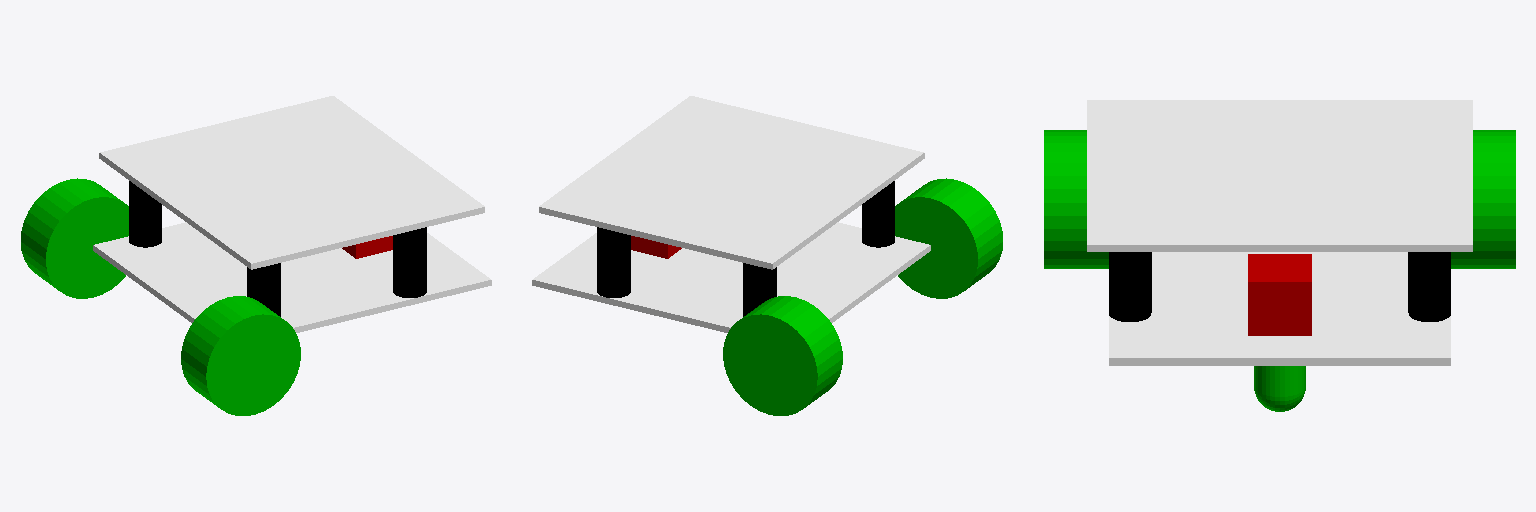
URDF robot description (r2d2):
<?xml version="1.0" ?>

<robot name="r2d2" xmlns:xacro="http://www.ros.org/wiki/xacro">
  <!-- Wheels -->
  <!-- in kg-->
  <!-- Defining the colors used in this robot -->
  
  <material name="Black">
    <color rgba="0.0 0.0 0.0 1.0"/>
  </material>
  <material name="Red">
    <color rgba="0.8 0.0 0.0 1.0"/>
  </material>
  <material name="Green">
    <color rgba="0.0 0.8 0.0 1.0"/>
  </material>
  <material name="White">
    <color rgba="1.0 1.0 1.0 1.0"/>
  </material>
  <material name="Blue">
    <color rgba="0.0 0.0 0.8 1.0"/>
  </material>
   --&gt; 

  <!-- BASE-LINK -->
  <!--Actual body/chassis of the robot-->

  <link name="base_link">
    <inertial>
      <mass value="0.1"/>
      <origin xyz="0 0 0.05"/>
      <!--The 3x3 rotational inertia matrix. -->
       <inertia ixx="0.0282916666667" ixy="0" ixz="0" iyy="0.0282916666667" iyz="0" izz="0.05625"/>
    </inertial>
    <visual>
      <origin rpy="0 0 0" xyz="0 0 0"/>
      <geometry>
        <box size="0.18 0.16 0.004"/>
      </geometry>
      <material name="White"/>
    </visual>
    <collision>
      <origin rpy="0 0 0 " xyz="0 0 0"/>
      <geometry>
        <cylinder length="0.005" radius="0.08"/>
      </geometry>
    </collision>
  </link>
  <gazebo reference="base_link">
    <material>Gazebo/White</material>
    <turnGravityOff>false</turnGravityOff>
  </gazebo>

  <!-- BASE-upperlink -->

<link name="base_upperlink">
    <inertial>
      <mass value="0.01"/>
      <origin xyz="0 0 0"/>
      <inertia ixx="0.001" ixy="0" ixz="0" iyy="0.001" iyz="0" izz="0.001"/>
    </inertial>
    <visual>
      <origin rpy="0 0 0" xyz="0 0 0"/>
      <geometry>
        <box size="0.16 0.18 0.004"/>
      </geometry>
  <material name="White"/>  
  </visual>
    <collision>
      <origin rpy="0 0 0 " xyz="0 0 0"/>
      <geometry>
        <cylinder length="0.005" radius="0.08"/>
      </geometry>
   <material name="White"/>
    </collision>
  </link>
  <gazebo reference="base_upperlink">
  
    <turnGravityOff>false</turnGravityOff>
  </gazebo>
  <joint name="base_upperlink_joint" type="fixed">
    <origin rpy="0 0 0" xyz="0 0 0.054"/>
    <parent link="base_link"/>
    <child link="base_upperlink"/>
  </joint>




  <!--fb : front, back ; lr: left, right -->
  <link name="right_wheel">
    <visual>
      <origin rpy="1.57079632679 0  0 " xyz="0 0 0"/>
      <geometry>
        <cylinder length="0.03" radius="0.0325"/>
      </geometry>
      <material name="Green"/>
    </visual>
    <collision>
      <origin rpy="1.57079632679 0 0 " xyz="0 0 0"/>
      <geometry>
        <cylinder length="0.005" radius="0.025"/>
      </geometry>
    </collision>
    <inertial>
      <mass value="0.05"/>
      <origin xyz="0 0 0"/>
      <inertia ixx="0.001" ixy="0" ixz="0" iyy="0.001" iyz="0" izz="0.001"/>
    </inertial>
  </link>
  <gazebo reference="right_wheel">
    <mu1 value="1.0"/>
    <mu2 value="1.0"/>
    <kp value="100000.0"/>
    <kd value="1.0"/>
    <fdir1 value="1 0 0"/>
    <material>Gazebo/Green</material>
    <turnGravityOff>false</turnGravityOff>
  </gazebo>
  <joint name="right_wheel_joint" type="continuous">
    <parent link="base_link"/>
    <child link="right_wheel"/>
      <origin rpy="0 0 0" xyz="-0.09 0.095 0"/>
    <axis rpy="0 0 0" xyz="0 1 0"/>
    <limit effort="100" velocity="100"/>
    <joint_properties damping="0.0" friction="0.0"/>
  </joint>
  <!-- Transmission is important to link the joints and the controller -->


  <transmission name="right_wheel_joint_trans">
    <type>transmission_interface/SimpleTransmission</type>
    <joint name="right_wheel_joint"/>
    <actuator name="right_wheel_joint_motor">
      <hardwareInterface>EffortJointInterface</hardwareInterface>
      <mechanicalReduction>1</mechanicalReduction>
    </actuator>
  </transmission>
  
  <!--left motor -->
  <link name="left_wheel">
    <visual>
      <origin rpy="1.57079632679 0  0 " xyz="0 0 0"/>
      <geometry>
        <cylinder length="0.03" radius="0.0325"/>
      </geometry>
      <material name="Green"/>
    </visual>
    <collision>
      <origin rpy="1.57079632679 0 0 " xyz="0 0 0"/>
      <geometry>
        <cylinder length="0.005" radius="0.025"/>
      </geometry>
    </collision>
    <inertial>
      <mass value="0.05"/>
      <origin xyz="0 0 0"/>
      <inertia ixx="0.001" ixy="0" ixz="0" iyy="0.001" iyz="0" izz="0.001"/>
    </inertial>
  </link>
  <gazebo reference="left_wheel">
    <mu1 value="1.0"/>
    <mu2 value="1.0"/>
    <kp value="100000.0"/>
    <kd value="1.0"/>
    <fdir1 value="1 0 0"/>
    <material>Gazebo/Green</material>
    <turnGravityOff>false</turnGravityOff>
  </gazebo>
  <joint name="left_wheel_joint" type="continuous">
    <parent link="base_link"/>
    <child link="left_wheel"/>
    <origin rpy="0 0 0" xyz="-0.09 -0.095 0"/>
    <axis rpy="0  0" xyz="0 1 0"/>
    <limit effort="100" velocity="100"/>
    <joint_properties damping="0.0" friction="0.0"/>
  </joint>

  <!-- Transmission is important to link the joints and the controller -->
  <transmission name="left_wheel_joint_trans">
    <type>transmission_interface/SimpleTransmission</type>
    <joint name="left_wheel_joint"/>
    <actuator name="left_wheel_joint_motor">
      <hardwareInterface>EffortJointInterface</hardwareInterface>
      <mechanicalReduction>1</mechanicalReduction>
    </actuator>
  </transmission>

  <!--Caster front  -->

  <link name="caster_front_link">
    <visual>
      <origin rpy="1.57079632679 0 0" xyz="0 0 0"/>
      <geometry>
        <sphere radius="0.01214"/>
      </geometry>
      <material name="Green"/>
    </visual>
    <collision>
      <geometry>
        <sphere radius="0.007"/>
      </geometry>
      <origin rpy="1.57079632679 0 0" xyz="0 0 0"/>
    </collision>
    <inertial>
      <mass value="0.05"/>
      <origin xyz="0 0 0"/>
      <inertia ixx="0.001" ixy="0.0" ixz="0.0" iyy="0.001" iyz="0.0" izz="0.001"/>
    </inertial>
  </link>
  <joint name="caster_front_joint" type="continuous">
    <parent link="caster_link"/>
    <child link="caster_front_link"/>
    <origin rpy="0 0 0" xyz="0.05 0 -0.01545"/>
    <axis rpy="1 0 0" xyz="0 0 0"/>
  </joint>
  <gazebo reference="caster_front_link">
    <turnGravityOff>false</turnGravityOff>
    <material>Gazebo/Green</material>
  </gazebo>
  
<link name="caster_link">
    <visual>
      <origin rpy="0 0  0 " xyz="0.05 0 0"/>
      <geometry>
        <cylinder length="0.03086" radius="0.01214"/>
      </geometry>
      <material name="Green"/>
    </visual>
    <collision>
      <origin rpy="0 0 0 " xyz="0.05 0 0"/>
      <geometry>
        <cylinder length="0.035" radius="0.005"/>
      </geometry>
    </collision>
    <inertial>
      <mass value="0.05"/>
      <origin xyz="0.05 0 0"/>
      <inertia ixx="0.001" ixy="0" ixz="0" iyy="0.001" iyz="0" izz="0.001"/>
    </inertial>
  </link>
  
<joint name="caster_front_joint_base" type="fixed">
    <parent link="base_link"/>
    <child link="caster_link"/>
    <origin rpy="0 0 0" xyz="0 0.0 -0.01545"/>
  </joint>
  <gazebo reference="caster_link">
    <turnGravityOff>false</turnGravityOff>
    <material>Gazebo/Green</material>
  </gazebo>
  
  



  <!-- hokuyo -->
<joint name="laser_sensor" type="fixed">
    <axis xyz="1 0 0"/>      
    <origin rpy="0 0.05 0" xyz="0.05 0 0.015"/>
    <parent link="base_link"/>
    <child link="laser_link"/>
  </joint>

<link name="laser_link">
  <inertial>
    <mass value="0.001"/>
    <origin rpy="0 0 0" xyz="0.05 0 0"/>
    <inertia ixx="0.001" ixy="0" ixz="0" iyy="0.001" iyz="0" izz="0.001"/>
  </inertial>
  <visual>
    <origin rpy="0 -0.05 0" xyz="0 0 0"/>
    <geometry>
      <box size="0.03 0.03 0.03"/>
    </geometry>
    <material name="Red"/>  
  </visual>
  <collision>
    <origin rpy="0 0 0" xyz="0 0 0"/>
    <geometry>
      <box size=".03 .03 .03"/>
    </geometry>
  </collision>
</link>

  <gazebo reference="laser_link">
   <material>Gazebo/Red</material>
    <turnGravityOff>false</turnGravityOff>
   
 <sensor name="laser_sensor" type="ray">
   
   <pose>0 0 0 0 0 0 0</pose>
      <visualize>true</visualize>
      <update_rate>100</update_rate>
      <ray>
  
      <scan>
          <horizontal>
            <samples>700</samples>
            <resolution>1</resolution>
            <min_angle>-1.170796</min_angle>
            <max_angle>1.170796</max_angle>
          </horizontal>
        </scan>

        <range>
          <min>0.1</min>
          <max>30</max>
          <resolution>0.01</resolution>
        </range>

      </ray>

      <plugin filename="libgazebo_ros_laser.so" name="gazebo_ros_head_hokuyo_controller">
        <topicName>/scan1</topicName>
        <frameName>laser_sensor</frameName>
      </plugin>
   </sensor>
  </gazebo>


  <link name="support_1">
    <visual>
      <origin rpy="0 0 0" xyz="0 0 0"/>
      <geometry>
       <cylinder length="0.05" radius="0.01"/>
      </geometry>
   <material name="Black"/>
    </visual>

  </link> 

  <joint name="support_joint1" type="fixed">
    <origin rpy="0 0 0" xyz="0.04 -0.07 0.027"/>
    <parent link="base_link"/>
    <child link="support_1"/>
  </joint>
  
  <gazebo reference="support_1">
    <turnGravityOff>false</turnGravityOff>
    <material>Gazebo/Black</material>
  </gazebo>

<link name="support_2">
    <visual>
      <origin rpy="0 0 0" xyz="0 0 0"/>
      <geometry>
       <cylinder length="0.05" radius="0.01"/>
      </geometry>
   <material name="Black"/>
    </visual>

  </link> 

  <joint name="support_joint2" type="fixed">
    <origin rpy="0 0 0" xyz="0.04 0.07 0.027"/>
    <parent link="base_link"/>
    <child link="support_2"/>
  </joint>
  <gazebo reference="support_2">
    <turnGravityOff>false</turnGravityOff>
    <material>Gazebo/Black</material>
  </gazebo>

<link name="support_3">
    <visual>
      <origin rpy="0 0 0" xyz="0 0 0"/>
      <geometry>
       <cylinder length="0.05" radius="0.01"/>
      </geometry>
   <material name="Black"/>
    </visual>

  </link> 

  <joint name="support_joint3" type="fixed">
    <origin rpy="0 0 0" xyz="-0.06 -0.07 0.027"/>
    <parent link="base_link"/>
    <child link="support_3"/>
  </joint>

  <gazebo reference="support_3">
    <turnGravityOff>false</turnGravityOff>
    <material>Gazebo/Black</material>
  </gazebo>

<link name="support_4">
    <visual>
      <origin rpy="0 0 0" xyz="0 0 0"/>
      <geometry>
       <cylinder length="0.05" radius="0.01"/>
      </geometry>
   <material name="Black"/>
    </visual>

  </link> 

  <joint name="support_joint4" type="fixed">
    <origin rpy="0 0 0" xyz="-0.06 0.07 0.027"/>
    <parent link="base_link"/>
    <child link="support_4"/>
  </joint>

  <gazebo reference="support_4">
    <turnGravityOff>false</turnGravityOff>
    <material>Gazebo/Black</material>
  </gazebo>

<gazebo>
    <plugin filename="libgazebo_ros_diff_drive.so" name="differential_drive_controller_front">
      <rosDebugLevel>Debug</rosDebugLevel>
      <publishWheelTF>True</publishWheelTF>
      <publishTf>1</publishTf>
      <publishWheelJointState>true</publishWheelJointState>
      <alwaysOn>true</alwaysOn>
      <updateRate>100.0</updateRate>
      <leftJoint>left_wheel_joint</leftJoint>
      <rightJoint>right_wheel_joint</rightJoint>
      <wheelSeparation>0.3</wheelSeparation>
      <wheelDiameter>0.065</wheelDiameter>
      <broadcastTF>1</broadcastTF>
      <wheelTorque>30</wheelTorque>
      <wheelAcceleration>1.8</wheelAcceleration>
      <commandTopic>cmd_vel</commandTopic>
      <odometryFrame>odom</odometryFrame>
      <odometryTopic>odom</odometryTopic>
      <robotBaseFrame>base_link</robotBaseFrame>
    </plugin>
  </gazebo>
 
</robot>

--- Facts derived from the render (not from the file) ---
Views: 3 orthographic renders of the robot side by side, from view 1: azimuth 30°, elevation 25°; view 2: azimuth 150°, elevation 25°; view 3: azimuth 270°, elevation 25°.
Model r2d2 with 11 links and 10 joints (3 continuous, 7 fixed), rooted at base_link, posed all joints at 0.
Visible links, largest first — view 1: base_upperlink, base_link, left_wheel, right_wheel, support_1, support_4, support_3, laser_link; view 2: base_upperlink, base_link, right_wheel, left_wheel, support_2, support_3, support_4, laser_link; view 3: base_upperlink, base_link, right_wheel, left_wheel, laser_link, support_1, support_2, caster_link, caster_front_link.
Boxes of the visible links, <box> form: base_upperlink: <box>99,96,484,269</box>; base_link: <box>93,222,491,332</box>; left_wheel: <box>181,296,300,415</box>; right_wheel: <box>21,178,128,298</box>; support_1: <box>393,227,426,297</box>; support_4: <box>129,181,161,247</box>; support_3: <box>247,263,280,316</box>; laser_link: <box>342,236,392,258</box>; base_upperlink: <box>539,96,924,269</box>; base_link: <box>532,222,930,332</box>; right_wheel: <box>723,296,842,415</box>; left_wheel: <box>895,178,1002,298</box>; support_2: <box>597,227,630,297</box>; support_3: <box>862,181,894,247</box>; support_4: <box>743,263,776,316</box>; laser_link: <box>631,236,681,258</box>; base_upperlink: <box>1087,100,1472,251</box>; base_link: <box>1109,252,1450,365</box>; right_wheel: <box>1451,130,1515,268</box>; left_wheel: <box>1044,130,1108,268</box>; laser_link: <box>1248,254,1311,335</box>; support_1: <box>1109,252,1151,321</box>; support_2: <box>1408,252,1450,321</box>; caster_link: <box>1254,366,1305,396</box>; caster_front_link: <box>1254,388,1305,411</box>.
Bounding box of the posed robot: 0.2125 × 0.22 × 0.099 m (x, y, z).
Geometry: primitives only (box / cylinder / sphere), no mesh files.
